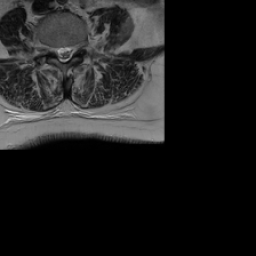CCS_normal: (61, 41, 66, 67)
LFS_normal: (73, 33, 81, 57)
LLS_normal: (66, 40, 73, 64)
RFS_normal: (48, 39, 54, 58)
RLS_normal: (54, 41, 61, 63)
